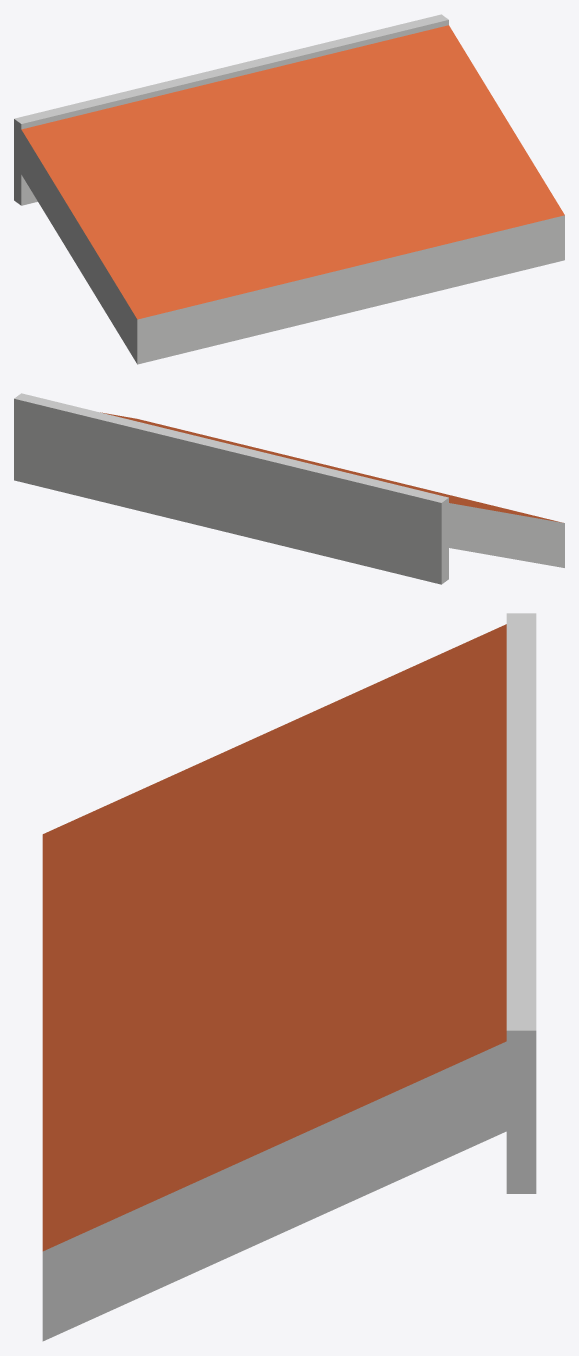
The model's file is telhado_beiral_alto_i50_1m.glb.
3 views of the same model, one above another, from view 1: azimuth 30°, elevation 25°; view 2: azimuth 150°, elevation 25°; view 3: azimuth 270°, elevation 25° (orthographic). The views are drawn at different scales.
Visible parts, largest first — view 1: telhado_beiral_alto_i50_1m; view 2: telhado_beiral_alto_i50_1m; view 3: telhado_beiral_alto_i50_1m.
Boxes of the visible parts, x1,y1,x2,y2 form: telhado_beiral_alto_i50_1m: (14,14,564,364); telhado_beiral_alto_i50_1m: (14,393,564,584); telhado_beiral_alto_i50_1m: (42,613,536,1341).
Size of the model in its own units: 1 by 0.3476 by 0.5.
